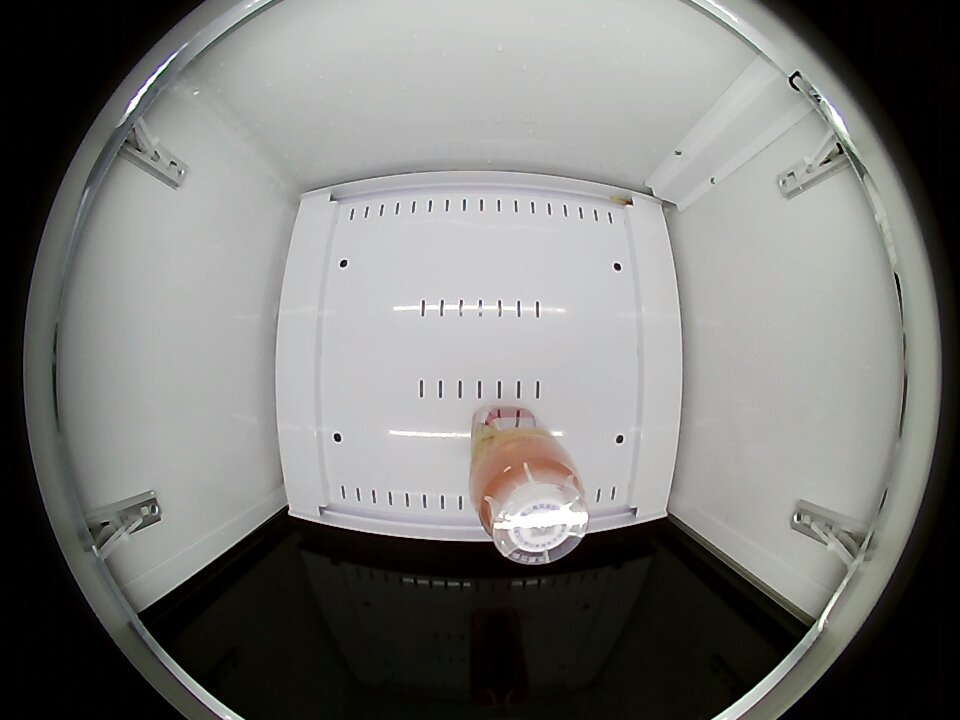dongpeng-b: (472, 444, 590, 566)
